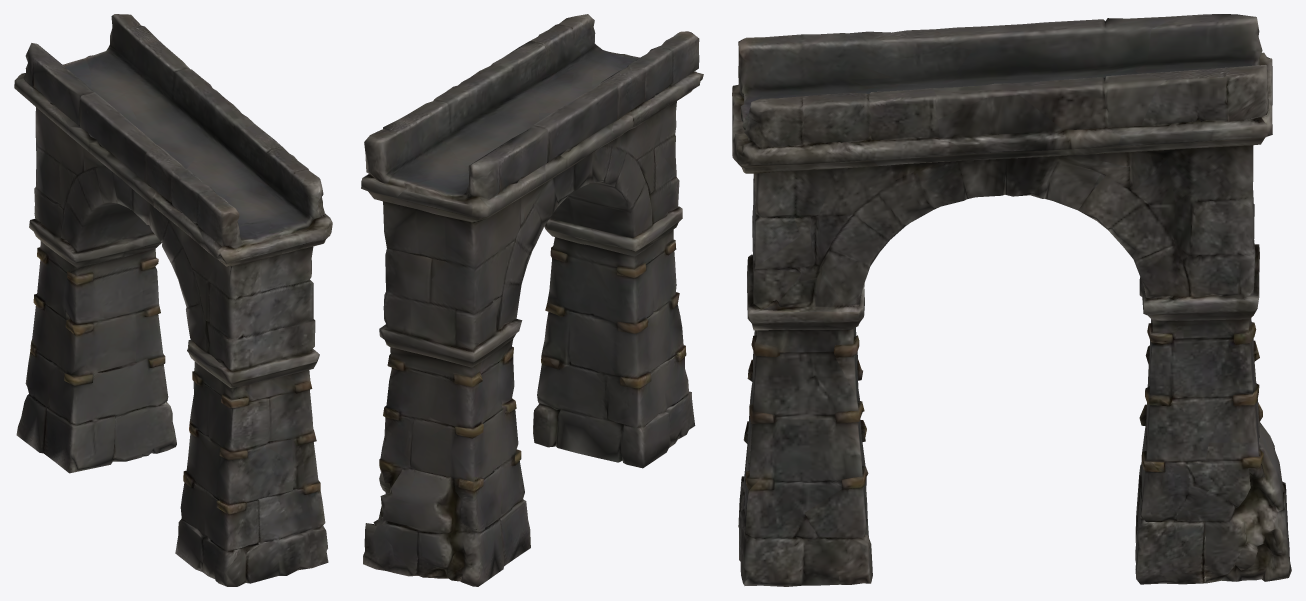
File: aqueduct.glb
The picture shows the model from 3 angles, left to right: view 1: azimuth 30°, elevation 25°; view 2: azimuth 150°, elevation 25°; view 3: azimuth 270°, elevation 25°; orthographic projection. The views are drawn at different scales.
Parts seen in each view (by area): view 1: tripo_node_a1218146-d972-4d4f-9352-514ada2e5530; view 2: tripo_node_a1218146-d972-4d4f-9352-514ada2e5530; view 3: tripo_node_a1218146-d972-4d4f-9352-514ada2e5530.
Boxes of the visible parts, x1,y1,x2,y2 form: tripo_node_a1218146-d972-4d4f-9352-514ada2e5530: (14, 14, 332, 586); tripo_node_a1218146-d972-4d4f-9352-514ada2e5530: (361, 14, 703, 586); tripo_node_a1218146-d972-4d4f-9352-514ada2e5530: (732, 14, 1291, 586).
Size of the model in its own units: 0.3096 by 1 by 0.9832.
Materials: 1 (1 with a texture image).
